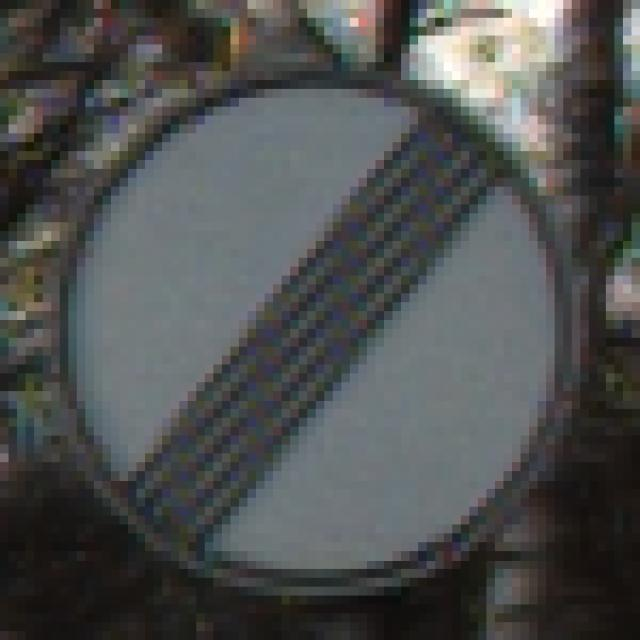restriction ends: (20, 45, 603, 606)
